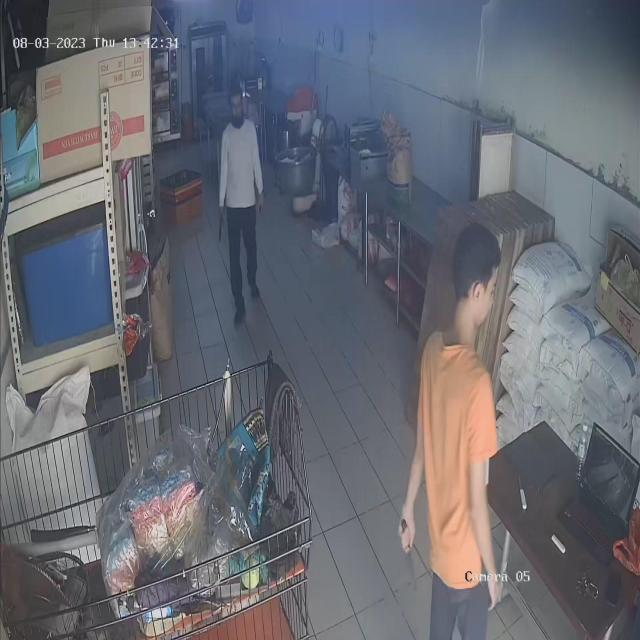Gun: (214, 204, 234, 240)
Knife: (397, 518, 435, 596)
